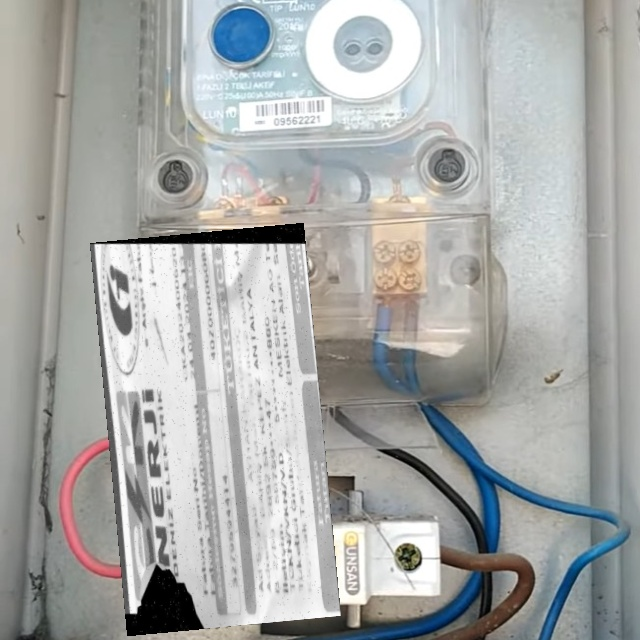electricity-bill: (90, 222, 341, 635)
